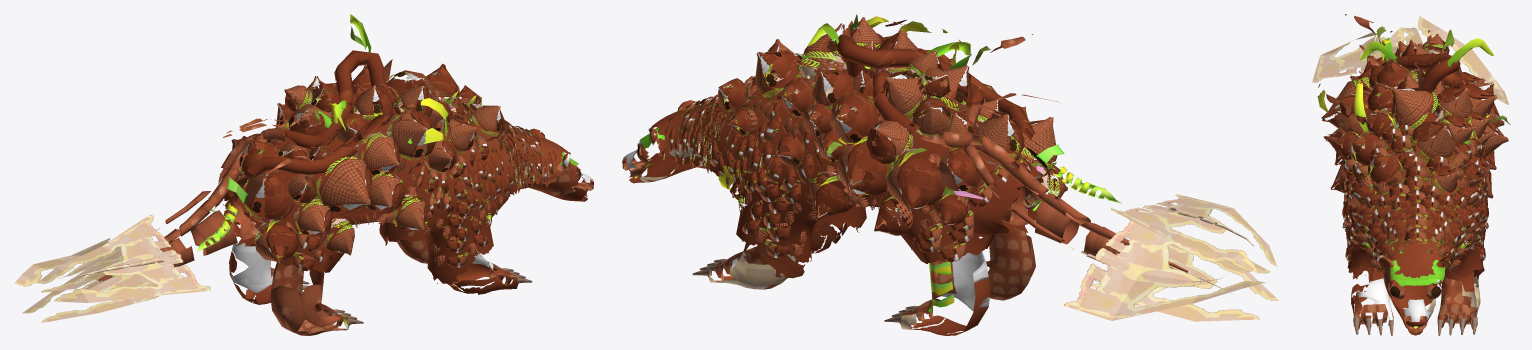
File: Landmarks_Pangolin_Salak_Park_Var.01.fbx
3 renders of one model, left to right at view 1: azimuth 30°, elevation 25°; view 2: azimuth 150°, elevation 25°; view 3: azimuth 270°, elevation 25°, orthographic. The views are drawn at different scales.
Parts seen in each view (by area): view 1: Salak, Hide, Body, Scales.001, Tail2, Stem1, Stem2, Leaves, Tail3, Tail1, Stem3; view 2: Salak, Hide, Body, Scales.001, Tail1, Tail2, Stem3, Stem1, Tail3, Leaves, Stem2; view 3: Salak, Scales.001, Body, Hide, Leaves, Tail2, Tail1, Stem1, Stem2, Stem3, Eyes, Pupils.
Part boxes in pixels (<box>): Salak: <box>231,63,504,263</box>; Hide: <box>222,105,568,284</box>; Body: <box>100,128,593,335</box>; Scales.001: <box>228,96,559,271</box>; Tail2: <box>37,176,247,302</box>; Stem1: <box>57,50,387,278</box>; Stem2: <box>71,110,406,279</box>; Leaves: <box>220,14,451,275</box>; Tail3: <box>22,209,229,322</box>; Tail1: <box>15,238,168,292</box>; Stem3: <box>82,85,369,288</box>; Salak: <box>718,17,1067,235</box>; Hide: <box>648,69,1044,278</box>; Body: <box>622,100,1173,335</box>; Scales.001: <box>661,53,1041,262</box>; Tail1: <box>1064,219,1270,320</box>; Tail2: <box>1036,144,1277,273</box>; Stem3: <box>873,70,1233,294</box>; Stem1: <box>834,34,1233,282</box>; Tail3: <box>1032,192,1278,321</box>; Leaves: <box>767,14,1059,199</box>; Stem2: <box>866,48,1253,246</box>; Salak: <box>1321,33,1508,198</box>; Scales.001: <box>1342,124,1488,270</box>; Body: <box>1351,225,1480,335</box>; Hide: <box>1347,95,1484,279</box>; Leaves: <box>1317,14,1510,157</box>; Tail2: <box>1312,27,1426,82</box>; Tail1: <box>1390,16,1508,104</box>; Stem1: <box>1381,53,1461,92</box>; Stem2: <box>1357,27,1395,116</box>; Stem3: <box>1433,73,1468,90</box>; Eyes: <box>1389,280,1441,299</box>; Pupils: <box>1390,286,1440,296</box>.
Size of the model in its own units: 327 by 138 by 105.
